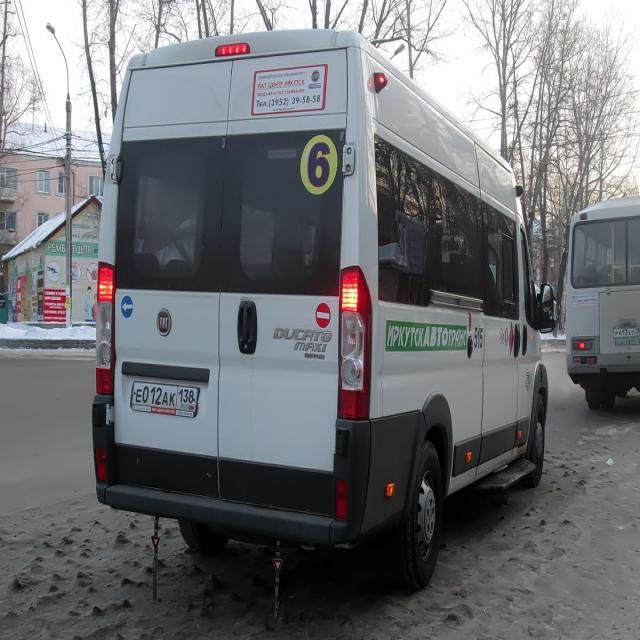number-of-bus: (302, 139, 339, 192)
